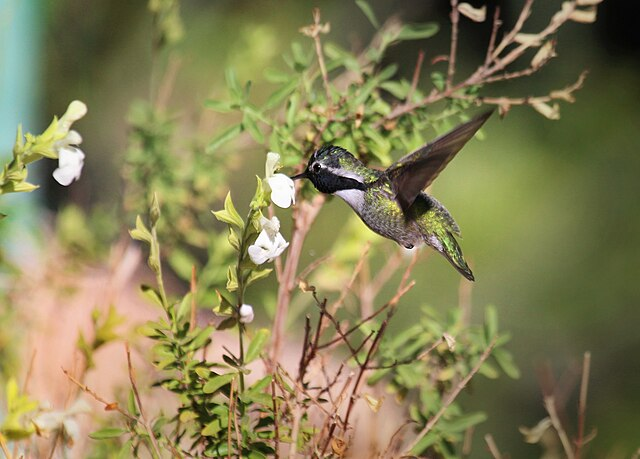calypte costae: (284, 101, 498, 280)
